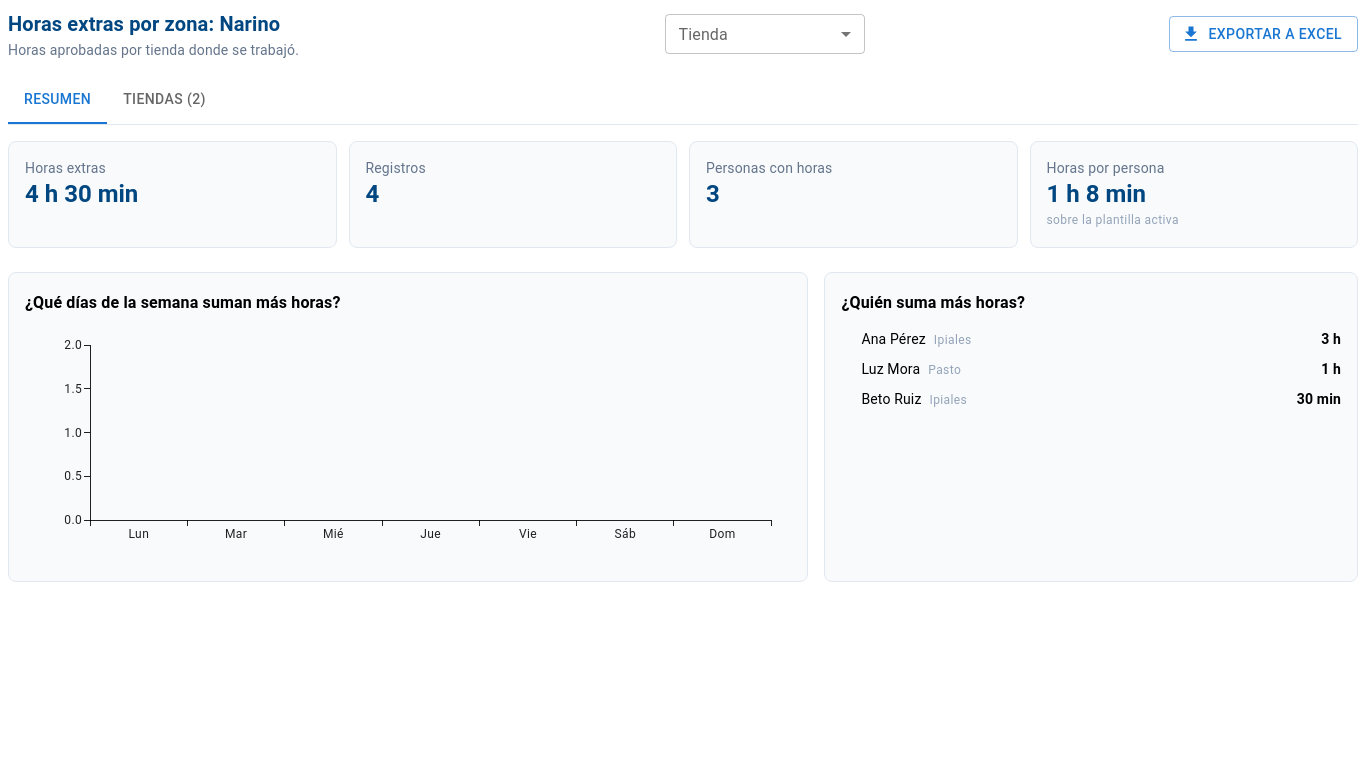
Test: Reportes · Horas extras por zona › detalle: tienda (registros y por persona) → personas → días plegados
Step 1. Click the tab "Tiendas (2)" → (165, 100), box [107,76,222,124]
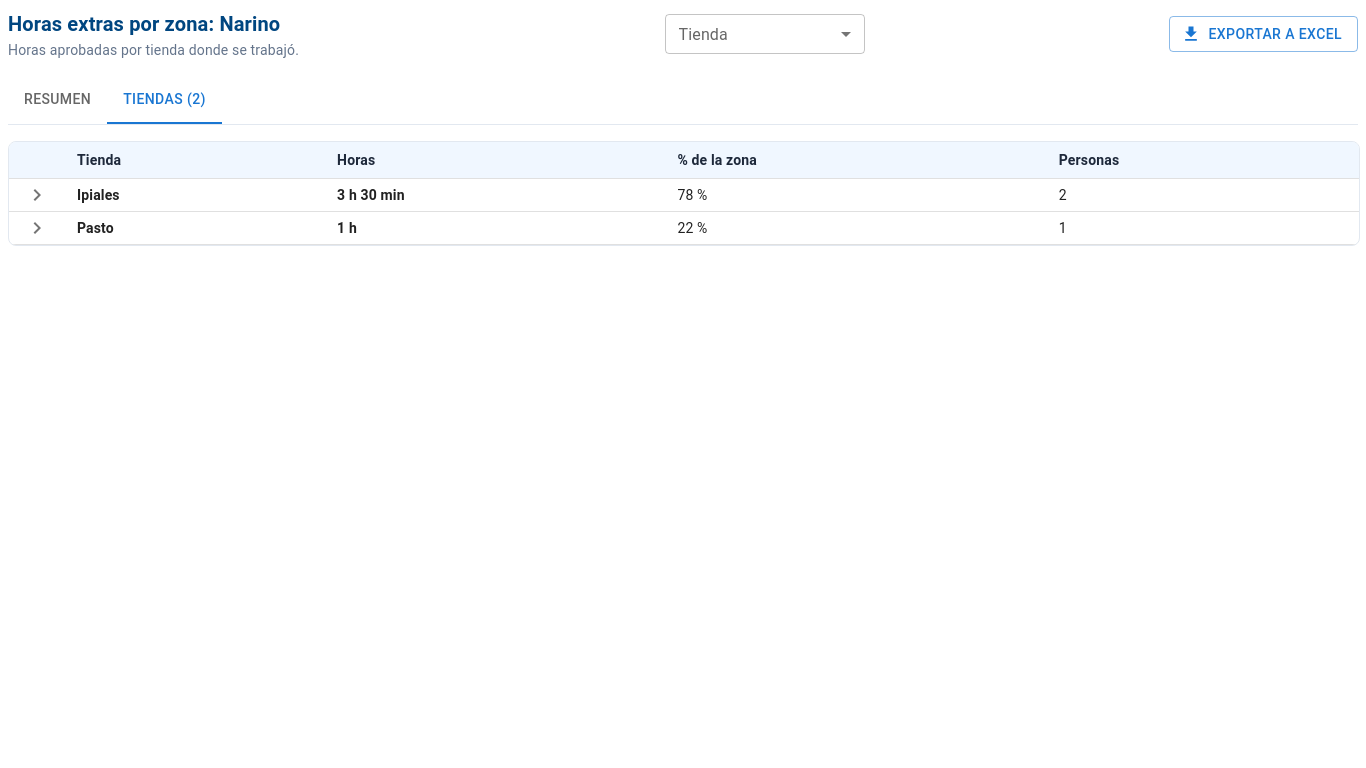
Step 2. Click the button named "Ver personas de Ipiales" → (37, 195), box [25,183,49,207]
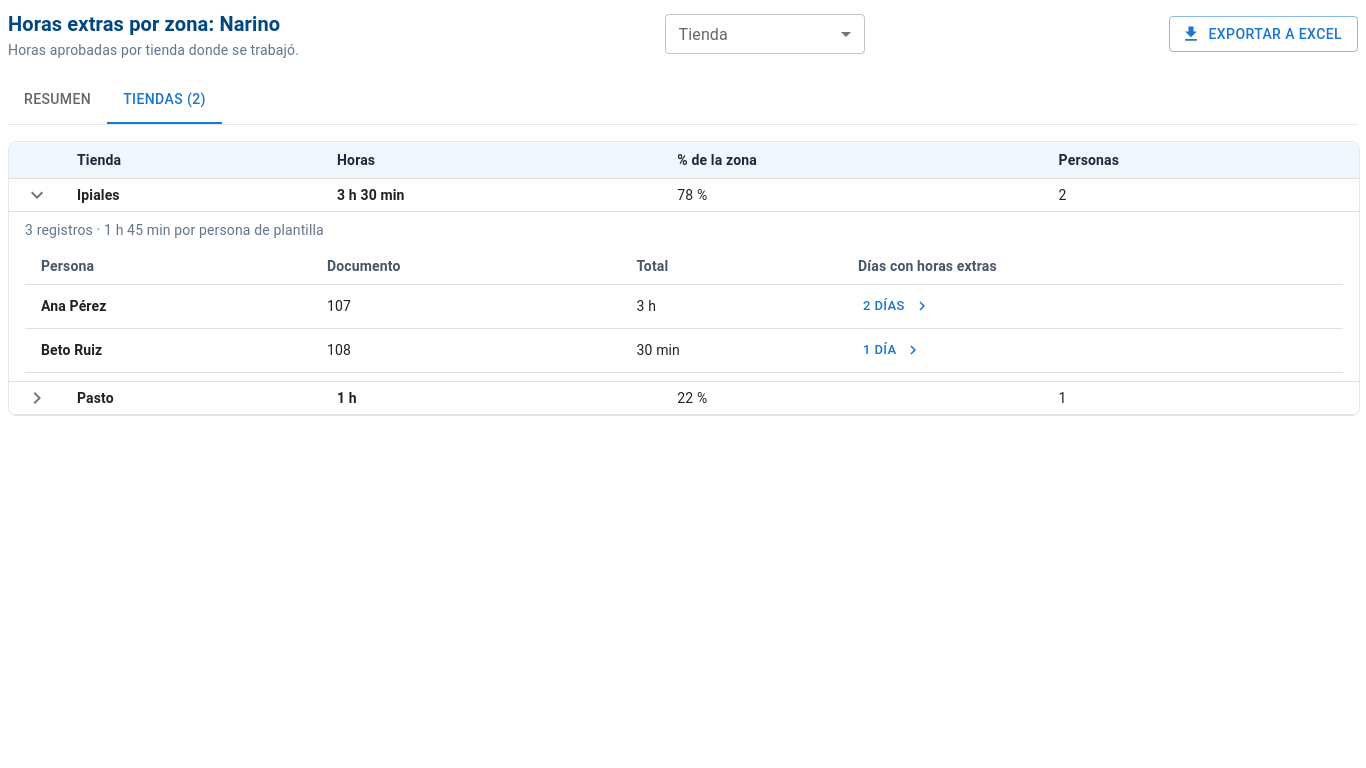
Check: the text "20/10: 1 h" is not shown
Check: the text "3 registros · 1 h 45 min por persona de plantilla" is shown, box [25,222,324,238]
Check: the cells read "Ana Pérez", "107", "3 h", "2 días", in this order, box [25,284,311,328]; [311,284,620,328]; [620,284,842,328]; [842,284,1343,328]
Step 3. Click the button with aria-label "Ver días de Ana Pérez" → (896, 306), box [858,291,934,322]
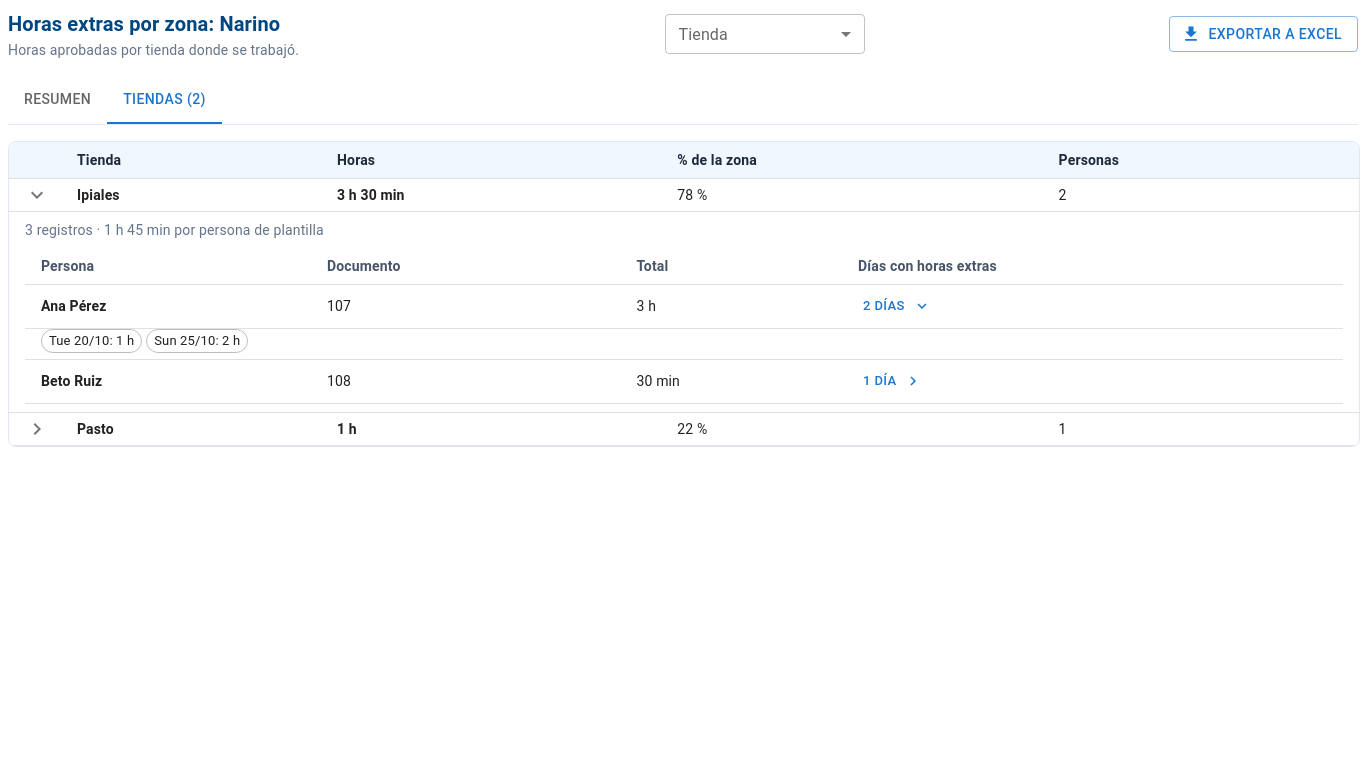
Check: the text "Tue 20/10: 1 h" is shown, box [42,331,141,350]
Check: the text "Sun 25/10: 2 h" is shown, box [147,331,247,350]
